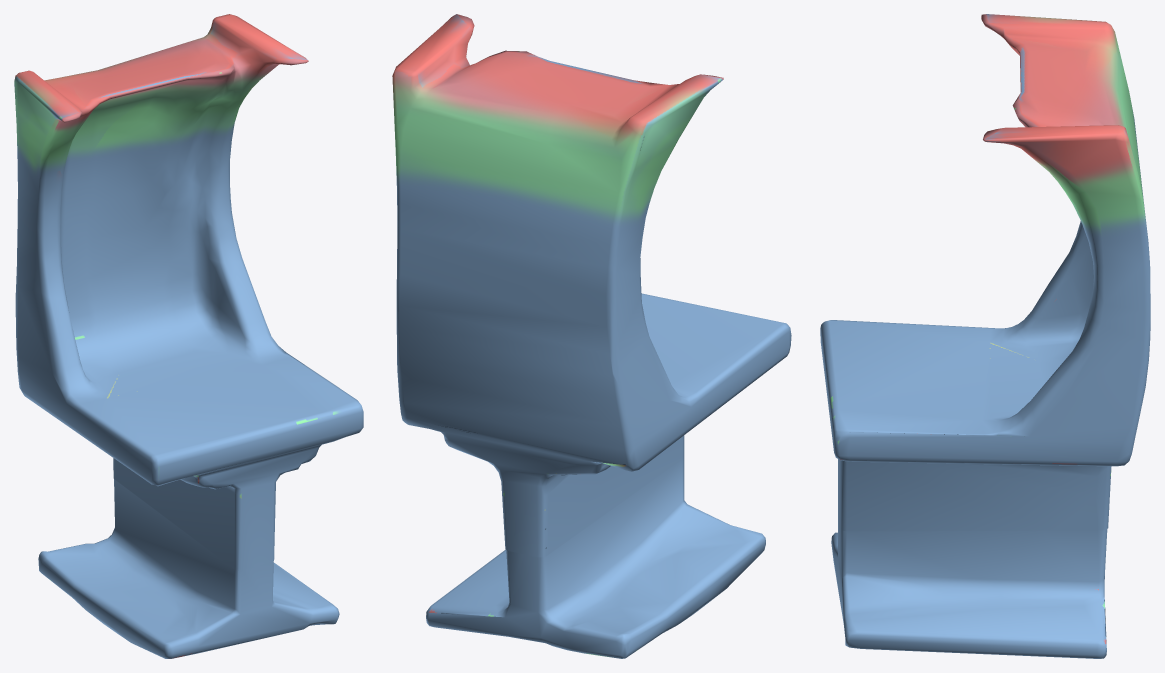
Rendered from sdadsdaa.glb.
The picture shows the model from 3 angles, left to right: view 1: azimuth 30°, elevation 25°; view 2: azimuth 150°, elevation 25°; view 3: azimuth 270°, elevation 25°; orthographic projection. The views are drawn at different scales.
Parts seen in each view (by area): view 1: material.008, material.007; view 2: material.008, material.007; view 3: material.008, material.007.
Boxes of the visible parts, box(x1,y1,x2,y2) form: material.008: box(14, 14, 363, 570); material.007: box(38, 479, 339, 658); material.008: box(392, 14, 791, 557); material.007: box(426, 456, 765, 658); material.008: box(820, 14, 1150, 531); material.007: box(831, 515, 1107, 658).
Bounding box in the file's own units: 0.9277 × 1.85 × 1.03.
Materials: 2 (2 with a texture image).
